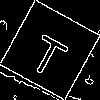T: (25, 25, 75, 80)
